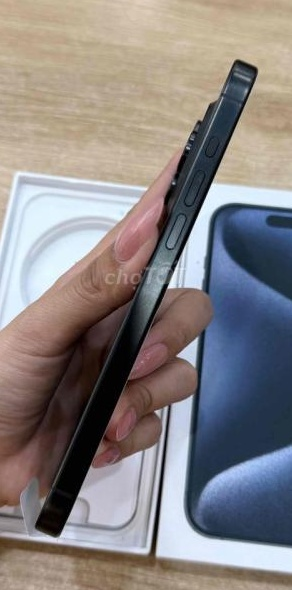scratch: (137, 258, 176, 304)
